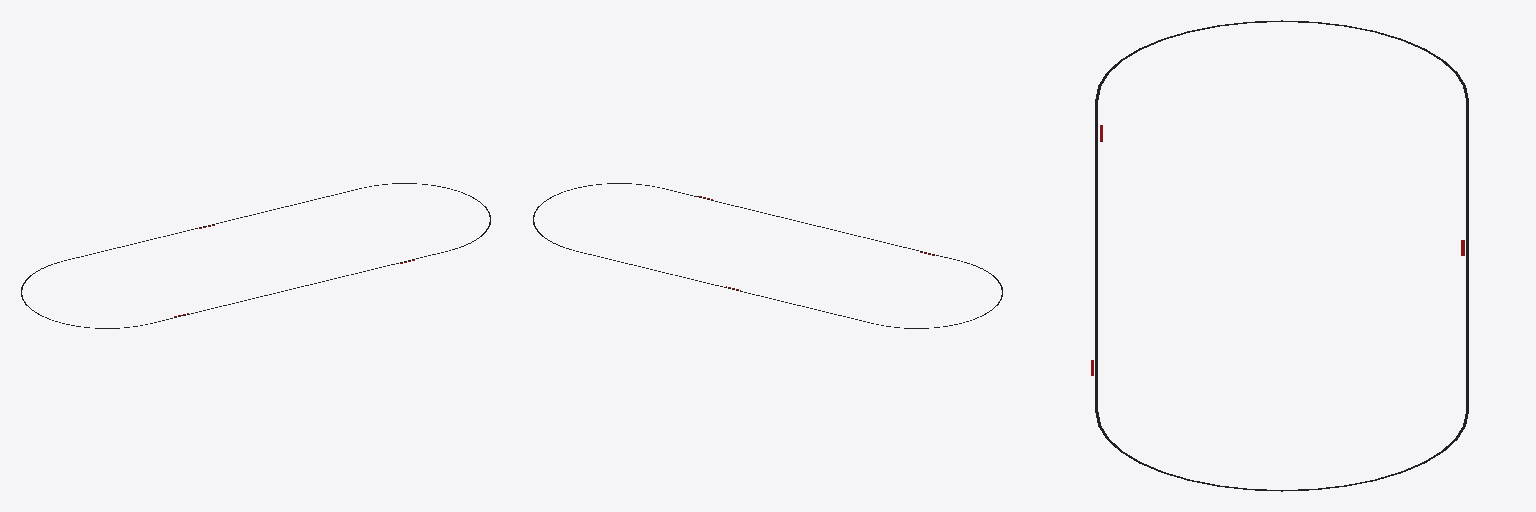
The robot description file, URDF, robot "magnetic_course":
<?xml version="1.0"?>
<robot name="magnetic_course">
  <!-- generated by gen_tape_urdf.py: magnetic tape course for MagneticGuideSensor -->
  <collision_material name="track"><magnetic_tape polarity="track"/></collision_material>
  <collision_material name="marker"><magnetic_tape polarity="marker"/></collision_material>
  <link name="world"/>
  <link name="tape_link">
    <visual><origin xyz="3.0000 0.0000 0.0005" rpy="0 0 0.000000"/><geometry><box size="6.0125 0.0250 0.0010"/></geometry><material name="tape_track"><color rgba="0.15 0.15 0.15 1"/></material></visual>
    <collision><origin xyz="3.0000 0.0000 0.0005" rpy="0 0 0.000000"/><geometry><box size="6.0125 0.0250 0.0010"/></geometry><collision_material name="track"/></collision>
    <visual><origin xyz="6.1303 0.0114 0.0005" rpy="0 0 0.087302"/><geometry><box size="0.2740 0.0250 0.0010"/></geometry><material name="tape_track"><color rgba="0.15 0.15 0.15 1"/></material></visual>
    <collision><origin xyz="6.1303 0.0114 0.0005" rpy="0 0 0.087302"/><geometry><box size="0.2740 0.0250 0.0010"/></geometry><collision_material name="track"/></collision>
    <visual><origin xyz="6.3868 0.0566 0.0005" rpy="0 0 0.261958"/><geometry><box size="0.2739 0.0250 0.0010"/></geometry><material name="tape_track"><color rgba="0.15 0.15 0.15 1"/></material></visual>
    <collision><origin xyz="6.3868 0.0566 0.0005" rpy="0 0 0.261958"/><geometry><box size="0.2739 0.0250 0.0010"/></geometry><collision_material name="track"/></collision>
    <visual><origin xyz="6.6315 0.1457 0.0005" rpy="0 0 0.436281"/><geometry><box size="0.2740 0.0250 0.0010"/></geometry><material name="tape_track"><color rgba="0.15 0.15 0.15 1"/></material></visual>
    <collision><origin xyz="6.6315 0.1457 0.0005" rpy="0 0 0.436281"/><geometry><box size="0.2740 0.0250 0.0010"/></geometry><collision_material name="track"/></collision>
    <visual><origin xyz="6.8571 0.2760 0.0005" rpy="0 0 0.610601"/><geometry><box size="0.2739 0.0250 0.0010"/></geometry><material name="tape_track"><color rgba="0.15 0.15 0.15 1"/></material></visual>
    <collision><origin xyz="6.8571 0.2760 0.0005" rpy="0 0 0.610601"/><geometry><box size="0.2739 0.0250 0.0010"/></geometry><collision_material name="track"/></collision>
    <visual><origin xyz="7.0566 0.4434 0.0005" rpy="0 0 0.785398"/><geometry><box size="0.2740 0.0250 0.0010"/></geometry><material name="tape_track"><color rgba="0.15 0.15 0.15 1"/></material></visual>
    <collision><origin xyz="7.0566 0.4434 0.0005" rpy="0 0 0.785398"/><geometry><box size="0.2740 0.0250 0.0010"/></geometry><collision_material name="track"/></collision>
    <visual><origin xyz="7.2241 0.6429 0.0005" rpy="0 0 0.960196"/><geometry><box size="0.2739 0.0250 0.0010"/></geometry><material name="tape_track"><color rgba="0.15 0.15 0.15 1"/></material></visual>
    <collision><origin xyz="7.2241 0.6429 0.0005" rpy="0 0 0.960196"/><geometry><box size="0.2739 0.0250 0.0010"/></geometry><collision_material name="track"/></collision>
    <visual><origin xyz="7.3543 0.8685 0.0005" rpy="0 0 1.134516"/><geometry><box size="0.2740 0.0250 0.0010"/></geometry><material name="tape_track"><color rgba="0.15 0.15 0.15 1"/></material></visual>
    <collision><origin xyz="7.3543 0.8685 0.0005" rpy="0 0 1.134516"/><geometry><box size="0.2740 0.0250 0.0010"/></geometry><collision_material name="track"/></collision>
    <visual><origin xyz="7.4434 1.1133 0.0005" rpy="0 0 1.308839"/><geometry><box size="0.2739 0.0250 0.0010"/></geometry><material name="tape_track"><color rgba="0.15 0.15 0.15 1"/></material></visual>
    <collision><origin xyz="7.4434 1.1133 0.0005" rpy="0 0 1.308839"/><geometry><box size="0.2739 0.0250 0.0010"/></geometry><collision_material name="track"/></collision>
    <visual><origin xyz="7.4886 1.3698 0.0005" rpy="0 0 1.483495"/><geometry><box size="0.2740 0.0250 0.0010"/></geometry><material name="tape_track"><color rgba="0.15 0.15 0.15 1"/></material></visual>
    <collision><origin xyz="7.4886 1.3698 0.0005" rpy="0 0 1.483495"/><geometry><box size="0.2740 0.0250 0.0010"/></geometry><collision_material name="track"/></collision>
    <visual><origin xyz="7.4886 1.6302 0.0005" rpy="0 0 1.658098"/><geometry><box size="0.2740 0.0250 0.0010"/></geometry><material name="tape_track"><color rgba="0.15 0.15 0.15 1"/></material></visual>
    <collision><origin xyz="7.4886 1.6302 0.0005" rpy="0 0 1.658098"/><geometry><box size="0.2740 0.0250 0.0010"/></geometry><collision_material name="track"/></collision>
    <visual><origin xyz="7.4434 1.8867 0.0005" rpy="0 0 1.832754"/><geometry><box size="0.2739 0.0250 0.0010"/></geometry><material name="tape_track"><color rgba="0.15 0.15 0.15 1"/></material></visual>
    <collision><origin xyz="7.4434 1.8867 0.0005" rpy="0 0 1.832754"/><geometry><box size="0.2739 0.0250 0.0010"/></geometry><collision_material name="track"/></collision>
    <visual><origin xyz="7.3543 2.1315 0.0005" rpy="0 0 2.007077"/><geometry><box size="0.2740 0.0250 0.0010"/></geometry><material name="tape_track"><color rgba="0.15 0.15 0.15 1"/></material></visual>
    <collision><origin xyz="7.3543 2.1315 0.0005" rpy="0 0 2.007077"/><geometry><box size="0.2740 0.0250 0.0010"/></geometry><collision_material name="track"/></collision>
    <visual><origin xyz="7.2241 2.3571 0.0005" rpy="0 0 2.181397"/><geometry><box size="0.2739 0.0250 0.0010"/></geometry><material name="tape_track"><color rgba="0.15 0.15 0.15 1"/></material></visual>
    <collision><origin xyz="7.2241 2.3571 0.0005" rpy="0 0 2.181397"/><geometry><box size="0.2739 0.0250 0.0010"/></geometry><collision_material name="track"/></collision>
    <visual><origin xyz="7.0566 2.5566 0.0005" rpy="0 0 2.356194"/><geometry><box size="0.2740 0.0250 0.0010"/></geometry><material name="tape_track"><color rgba="0.15 0.15 0.15 1"/></material></visual>
    <collision><origin xyz="7.0566 2.5566 0.0005" rpy="0 0 2.356194"/><geometry><box size="0.2740 0.0250 0.0010"/></geometry><collision_material name="track"/></collision>
    <visual><origin xyz="6.8571 2.7241 0.0005" rpy="0 0 2.530992"/><geometry><box size="0.2739 0.0250 0.0010"/></geometry><material name="tape_track"><color rgba="0.15 0.15 0.15 1"/></material></visual>
    <collision><origin xyz="6.8571 2.7241 0.0005" rpy="0 0 2.530992"/><geometry><box size="0.2739 0.0250 0.0010"/></geometry><collision_material name="track"/></collision>
    <visual><origin xyz="6.6315 2.8542 0.0005" rpy="0 0 2.705312"/><geometry><box size="0.2740 0.0250 0.0010"/></geometry><material name="tape_track"><color rgba="0.15 0.15 0.15 1"/></material></visual>
    <collision><origin xyz="6.6315 2.8542 0.0005" rpy="0 0 2.705312"/><geometry><box size="0.2740 0.0250 0.0010"/></geometry><collision_material name="track"/></collision>
    <visual><origin xyz="6.3868 2.9433 0.0005" rpy="0 0 2.879635"/><geometry><box size="0.2739 0.0250 0.0010"/></geometry><material name="tape_track"><color rgba="0.15 0.15 0.15 1"/></material></visual>
    <collision><origin xyz="6.3868 2.9433 0.0005" rpy="0 0 2.879635"/><geometry><box size="0.2739 0.0250 0.0010"/></geometry><collision_material name="track"/></collision>
    <visual><origin xyz="6.1303 2.9886 0.0005" rpy="0 0 3.054291"/><geometry><box size="0.2740 0.0250 0.0010"/></geometry><material name="tape_track"><color rgba="0.15 0.15 0.15 1"/></material></visual>
    <collision><origin xyz="6.1303 2.9886 0.0005" rpy="0 0 3.054291"/><geometry><box size="0.2740 0.0250 0.0010"/></geometry><collision_material name="track"/></collision>
    <visual><origin xyz="3.0000 3.0000 0.0005" rpy="0 0 3.141593"/><geometry><box size="6.0125 0.0250 0.0010"/></geometry><material name="tape_track"><color rgba="0.15 0.15 0.15 1"/></material></visual>
    <collision><origin xyz="3.0000 3.0000 0.0005" rpy="0 0 3.141593"/><geometry><box size="6.0125 0.0250 0.0010"/></geometry><collision_material name="track"/></collision>
    <visual><origin xyz="-0.1303 2.9886 0.0005" rpy="0 0 -3.054291"/><geometry><box size="0.2740 0.0250 0.0010"/></geometry><material name="tape_track"><color rgba="0.15 0.15 0.15 1"/></material></visual>
    <collision><origin xyz="-0.1303 2.9886 0.0005" rpy="0 0 -3.054291"/><geometry><box size="0.2740 0.0250 0.0010"/></geometry><collision_material name="track"/></collision>
    <visual><origin xyz="-0.3868 2.9433 0.0005" rpy="0 0 -2.879635"/><geometry><box size="0.2739 0.0250 0.0010"/></geometry><material name="tape_track"><color rgba="0.15 0.15 0.15 1"/></material></visual>
    <collision><origin xyz="-0.3868 2.9433 0.0005" rpy="0 0 -2.879635"/><geometry><box size="0.2739 0.0250 0.0010"/></geometry><collision_material name="track"/></collision>
    <visual><origin xyz="-0.6315 2.8542 0.0005" rpy="0 0 -2.705312"/><geometry><box size="0.2740 0.0250 0.0010"/></geometry><material name="tape_track"><color rgba="0.15 0.15 0.15 1"/></material></visual>
    <collision><origin xyz="-0.6315 2.8542 0.0005" rpy="0 0 -2.705312"/><geometry><box size="0.2740 0.0250 0.0010"/></geometry><collision_material name="track"/></collision>
    <visual><origin xyz="-0.8571 2.7241 0.0005" rpy="0 0 -2.530992"/><geometry><box size="0.2739 0.0250 0.0010"/></geometry><material name="tape_track"><color rgba="0.15 0.15 0.15 1"/></material></visual>
    <collision><origin xyz="-0.8571 2.7241 0.0005" rpy="0 0 -2.530992"/><geometry><box size="0.2739 0.0250 0.0010"/></geometry><collision_material name="track"/></collision>
    <visual><origin xyz="-1.0566 2.5566 0.0005" rpy="0 0 -2.356194"/><geometry><box size="0.2740 0.0250 0.0010"/></geometry><material name="tape_track"><color rgba="0.15 0.15 0.15 1"/></material></visual>
    <collision><origin xyz="-1.0566 2.5566 0.0005" rpy="0 0 -2.356194"/><geometry><box size="0.2740 0.0250 0.0010"/></geometry><collision_material name="track"/></collision>
    <visual><origin xyz="-1.2241 2.3571 0.0005" rpy="0 0 -2.181397"/><geometry><box size="0.2739 0.0250 0.0010"/></geometry><material name="tape_track"><color rgba="0.15 0.15 0.15 1"/></material></visual>
    <collision><origin xyz="-1.2241 2.3571 0.0005" rpy="0 0 -2.181397"/><geometry><box size="0.2739 0.0250 0.0010"/></geometry><collision_material name="track"/></collision>
    <visual><origin xyz="-1.3542 2.1315 0.0005" rpy="0 0 -2.007077"/><geometry><box size="0.2740 0.0250 0.0010"/></geometry><material name="tape_track"><color rgba="0.15 0.15 0.15 1"/></material></visual>
    <collision><origin xyz="-1.3542 2.1315 0.0005" rpy="0 0 -2.007077"/><geometry><box size="0.2740 0.0250 0.0010"/></geometry><collision_material name="track"/></collision>
    <visual><origin xyz="-1.4434 1.8867 0.0005" rpy="0 0 -1.832754"/><geometry><box size="0.2739 0.0250 0.0010"/></geometry><material name="tape_track"><color rgba="0.15 0.15 0.15 1"/></material></visual>
    <collision><origin xyz="-1.4434 1.8867 0.0005" rpy="0 0 -1.832754"/><geometry><box size="0.2739 0.0250 0.0010"/></geometry><collision_material name="track"/></collision>
    <visual><origin xyz="-1.4886 1.6302 0.0005" rpy="0 0 -1.658098"/><geometry><box size="0.2740 0.0250 0.0010"/></geometry><material name="tape_track"><color rgba="0.15 0.15 0.15 1"/></material></visual>
    <collision><origin xyz="-1.4886 1.6302 0.0005" rpy="0 0 -1.658098"/><geometry><box size="0.2740 0.0250 0.0010"/></geometry><collision_material name="track"/></collision>
    <visual><origin xyz="-1.4886 1.3698 0.0005" rpy="0 0 -1.483495"/><geometry><box size="0.2740 0.0250 0.0010"/></geometry><material name="tape_track"><color rgba="0.15 0.15 0.15 1"/></material></visual>
    <collision><origin xyz="-1.4886 1.3698 0.0005" rpy="0 0 -1.483495"/><geometry><box size="0.2740 0.0250 0.0010"/></geometry><collision_material name="track"/></collision>
    <visual><origin xyz="-1.4434 1.1133 0.0005" rpy="0 0 -1.308839"/><geometry><box size="0.2739 0.0250 0.0010"/></geometry><material name="tape_track"><color rgba="0.15 0.15 0.15 1"/></material></visual>
    <collision><origin xyz="-1.4434 1.1133 0.0005" rpy="0 0 -1.308839"/><geometry><box size="0.2739 0.0250 0.0010"/></geometry><collision_material name="track"/></collision>
    <visual><origin xyz="-1.3542 0.8685 0.0005" rpy="0 0 -1.134516"/><geometry><box size="0.2740 0.0250 0.0010"/></geometry><material name="tape_track"><color rgba="0.15 0.15 0.15 1"/></material></visual>
    <collision><origin xyz="-1.3542 0.8685 0.0005" rpy="0 0 -1.134516"/><geometry><box size="0.2740 0.0250 0.0010"/></geometry><collision_material name="track"/></collision>
    <visual><origin xyz="-1.2241 0.6429 0.0005" rpy="0 0 -0.960196"/><geometry><box size="0.2739 0.0250 0.0010"/></geometry><material name="tape_track"><color rgba="0.15 0.15 0.15 1"/></material></visual>
    <collision><origin xyz="-1.2241 0.6429 0.0005" rpy="0 0 -0.960196"/><geometry><box size="0.2739 0.0250 0.0010"/></geometry><collision_material name="track"/></collision>
    <visual><origin xyz="-1.0566 0.4434 0.0005" rpy="0 0 -0.785398"/><geometry><box size="0.2740 0.0250 0.0010"/></geometry><material name="tape_track"><color rgba="0.15 0.15 0.15 1"/></material></visual>
    <collision><origin xyz="-1.0566 0.4434 0.0005" rpy="0 0 -0.785398"/><geometry><box size="0.2740 0.0250 0.0010"/></geometry><collision_material name="track"/></collision>
    <visual><origin xyz="-0.8571 0.2760 0.0005" rpy="0 0 -0.610601"/><geometry><box size="0.2739 0.0250 0.0010"/></geometry><material name="tape_track"><color rgba="0.15 0.15 0.15 1"/></material></visual>
    <collision><origin xyz="-0.8571 0.2760 0.0005" rpy="0 0 -0.610601"/><geometry><box size="0.2739 0.0250 0.0010"/></geometry><collision_material name="track"/></collision>
    <visual><origin xyz="-0.6315 0.1457 0.0005" rpy="0 0 -0.436281"/><geometry><box size="0.2740 0.0250 0.0010"/></geometry><material name="tape_track"><color rgba="0.15 0.15 0.15 1"/></material></visual>
    <collision><origin xyz="-0.6315 0.1457 0.0005" rpy="0 0 -0.436281"/><geometry><box size="0.2740 0.0250 0.0010"/></geometry><collision_material name="track"/></collision>
    <visual><origin xyz="-0.3868 0.0566 0.0005" rpy="0 0 -0.261958"/><geometry><box size="0.2739 0.0250 0.0010"/></geometry><material name="tape_track"><color rgba="0.15 0.15 0.15 1"/></material></visual>
    <collision><origin xyz="-0.3868 0.0566 0.0005" rpy="0 0 -0.261958"/><geometry><box size="0.2739 0.0250 0.0010"/></geometry><collision_material name="track"/></collision>
    <visual><origin xyz="-0.1303 0.0114 0.0005" rpy="0 0 -0.087302"/><geometry><box size="0.2740 0.0250 0.0010"/></geometry><material name="tape_track"><color rgba="0.15 0.15 0.15 1"/></material></visual>
    <collision><origin xyz="-0.1303 0.0114 0.0005" rpy="0 0 -0.087302"/><geometry><box size="0.2740 0.0250 0.0010"/></geometry><collision_material name="track"/></collision>
    <visual><origin xyz="0.6500 0.0350 0.0005" rpy="0 0 0.000000"/><geometry><box size="0.3125 0.0250 0.0010"/></geometry><material name="tape_marker"><color rgba="0.6 0.1 0.1 1"/></material></visual>
    <collision><origin xyz="0.6500 0.0350 0.0005" rpy="0 0 0.000000"/><geometry><box size="0.3125 0.0250 0.0010"/></geometry><collision_material name="marker"/></collision>
    <visual><origin xyz="5.1500 -0.0350 0.0005" rpy="0 0 0.000000"/><geometry><box size="0.3125 0.0250 0.0010"/></geometry><material name="tape_marker"><color rgba="0.6 0.1 0.1 1"/></material></visual>
    <collision><origin xyz="5.1500 -0.0350 0.0005" rpy="0 0 0.000000"/><geometry><box size="0.3125 0.0250 0.0010"/></geometry><collision_material name="marker"/></collision>
    <visual><origin xyz="2.8500 2.9650 0.0005" rpy="0 0 3.141593"/><geometry><box size="0.3125 0.0250 0.0010"/></geometry><material name="tape_marker"><color rgba="0.6 0.1 0.1 1"/></material></visual>
    <collision><origin xyz="2.8500 2.9650 0.0005" rpy="0 0 3.141593"/><geometry><box size="0.3125 0.0250 0.0010"/></geometry><collision_material name="marker"/></collision>
  </link>
  <joint name="tape_fix" type="fixed"><parent link="world"/><child link="tape_link"/></joint>
</robot>

--- What the picture shows (computed from the rendered views, not written in the file) ---
The picture shows the robot from 3 angles, left to right: view 1: azimuth 30°, elevation 25°; view 2: azimuth 150°, elevation 25°; view 3: azimuth 270°, elevation 25°; orthographic projection.
Robot: magnetic_course — 2 links, 1 joints (1 fixed); root link world; default pose: all joints at 0.
Links seen in each view (by area): view 1: tape_link; view 2: tape_link; view 3: tape_link.
Boxes of the visible links, <box> form: tape_link: <box>21,183,490,328</box>; tape_link: <box>533,183,1002,328</box>; tape_link: <box>1091,20,1468,491</box>.
Bounding box of the posed robot: 9.03 × 3.06 × 0.001 m (x, y, z).
Geometry: primitives only (box / cylinder / sphere), no mesh files.
